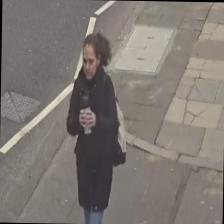person: (64, 32, 118, 224)
